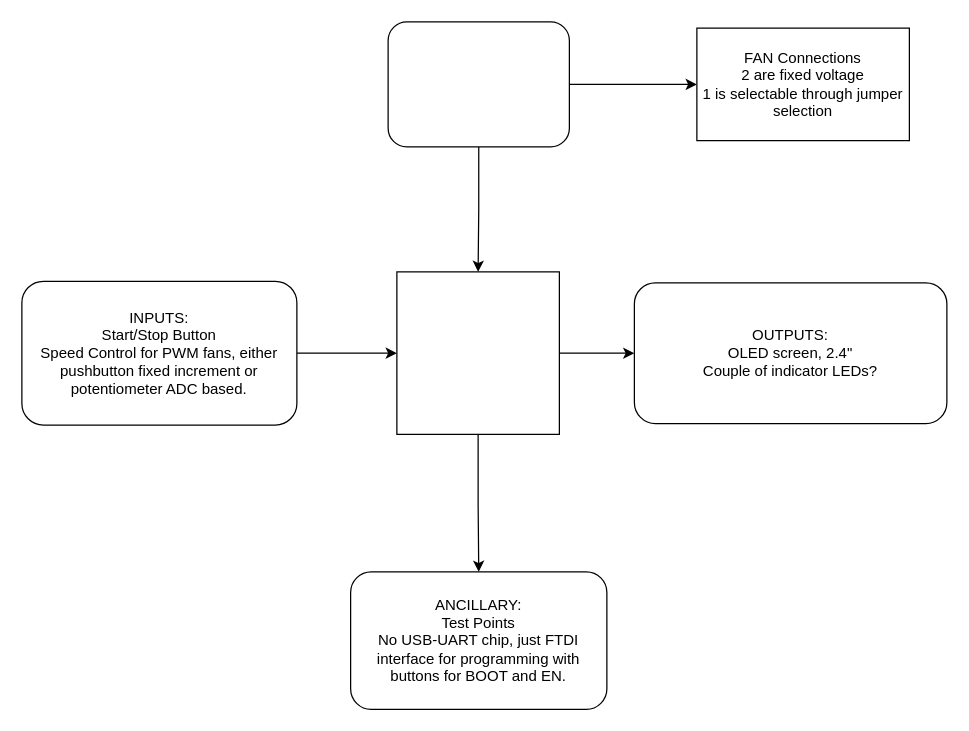
Some shapes in this 969 by 731 pixel diagram are drawn without their labels. The centre of each missing label's shape, as x and y in pixels:
"ESP32 External Antenna ESP32-WROOM-32UE-N16" goes at point (477, 352).
"Power Supply: 12VDC IN 3.3V for ESP32 3.3V Fan 5V Fan 12V Fan" goes at point (478, 84).
